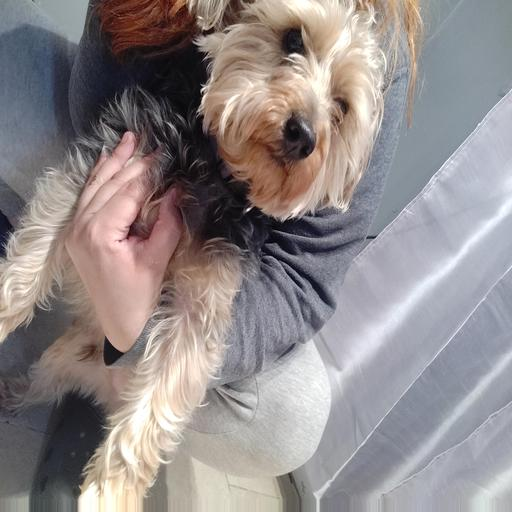dog: (205, 1, 417, 212)
